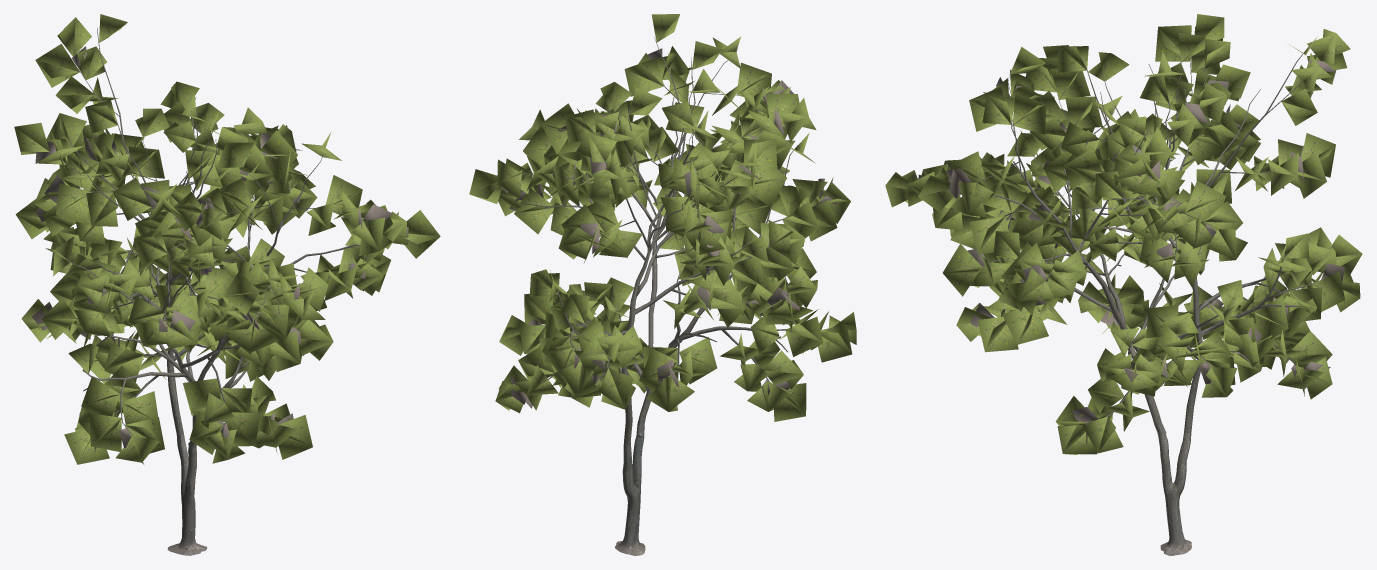
File: sm_Tree_01_03.fbx
The picture shows the model from 3 angles, left to right: view 1: azimuth 30°, elevation 25°; view 2: azimuth 150°, elevation 25°; view 3: azimuth 270°, elevation 25°; orthographic projection. The views are drawn at different scales.
Visible parts, largest first — view 1: sm_Tree_01_03_LOD0; view 2: sm_Tree_01_03_LOD0; view 3: sm_Tree_01_03_LOD0.
Boxes of the visible parts, x1,y1,x2,y2 form: sm_Tree_01_03_LOD0: (14,14,440,555); sm_Tree_01_03_LOD0: (469,14,856,555); sm_Tree_01_03_LOD0: (885,14,1362,555).
Bounding box in the file's own units: 1643 × 1902 × 2211.
